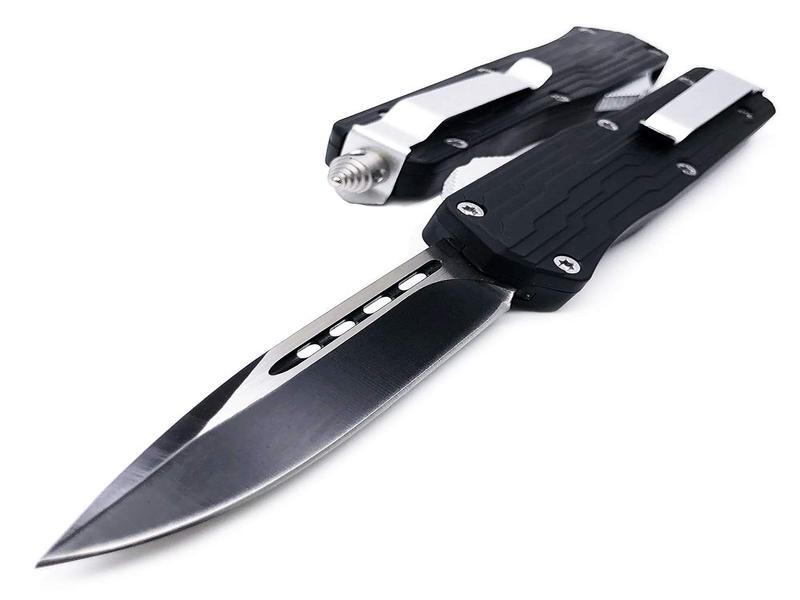KNIFE: (28, 63, 780, 581)
